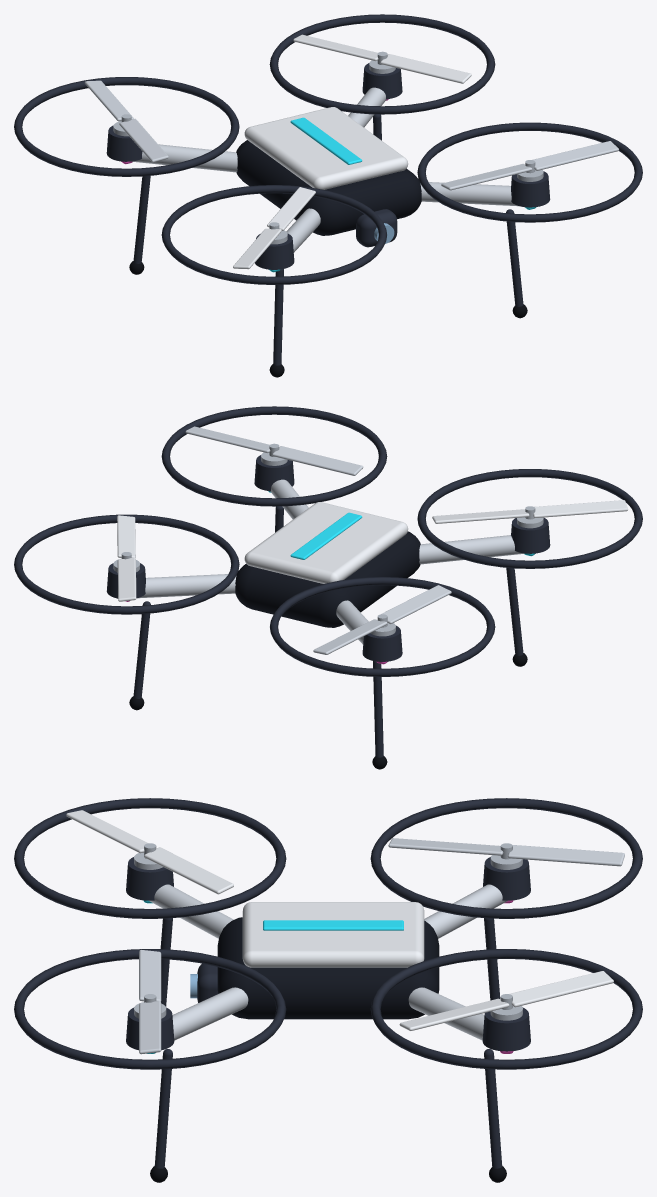
Rendered from quadcopter.glb.
3 views of the same model, one above another, from view 1: azimuth 30°, elevation 25°; view 2: azimuth 150°, elevation 25°; view 3: azimuth 270°, elevation 25° (orthographic). The views are drawn at different scales.
Visible parts, largest first — view 1: drone, shellTop, shell, prop3, prop0, prop2, prop1, arm0, arm2, motor0, motor3, motor1 (+3 smaller); view 2: drone, shellTop, shell, prop1, prop0, prop2, arm1, arm3, prop3, motor1, motor2, motor0 (+3 smaller); view 3: drone, shellTop, shell, prop2, prop3, prop1, prop0, arm0, motor3, motor2, motor1, arm3 (+3 smaller).
Part boxes in pixels (box(x1,y1,x2,y2)): drone: box(14, 14, 642, 377); shellTop: box(244, 107, 408, 189); shell: box(236, 140, 421, 235); prop3: box(293, 34, 471, 83); prop0: box(441, 141, 618, 190); prop2: box(84, 80, 168, 162); prop1: box(233, 187, 315, 269); arm0: box(420, 182, 518, 206); arm2: box(132, 144, 237, 172); motor0: box(511, 169, 550, 207); motor3: box(362, 60, 402, 99); motor1: box(255, 230, 294, 269); drone: box(14, 406, 642, 769); shellTop: box(244, 502, 408, 583); shell: box(235, 531, 420, 627); prop1: box(432, 500, 627, 523); prop0: box(185, 426, 363, 475); prop2: box(313, 585, 451, 654); arm1: box(419, 535, 524, 564); arm3: box(138, 574, 236, 598); prop3: box(117, 515, 136, 601); motor1: box(511, 517, 550, 553); motor2: box(362, 623, 402, 661); motor0: box(254, 452, 294, 491); drone: box(14, 798, 642, 1182); shellTop: box(242, 902, 424, 967); shell: box(217, 917, 439, 1019); prop2: box(388, 838, 624, 866); prop3: box(399, 971, 613, 1030); prop1: box(66, 810, 233, 894); prop0: box(139, 949, 161, 1054); arm0: box(172, 987, 248, 1040); motor3: box(482, 1006, 530, 1051); motor2: box(483, 855, 530, 900); motor1: box(126, 852, 173, 900); arm3: box(408, 987, 484, 1040).
Size of the model in its own units: 0.6236 by 0.207 by 0.6236.
